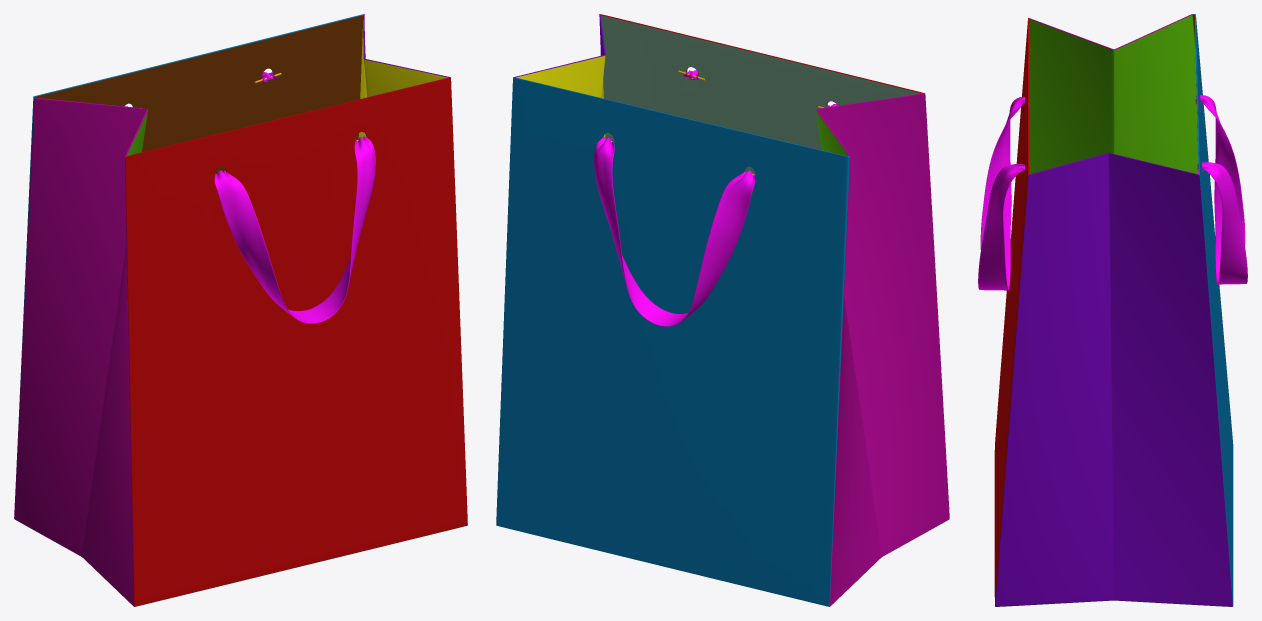
The model's file is gift_paper_bag.glb.
3 views of the same model, side by side, from view 1: azimuth 30°, elevation 25°; view 2: azimuth 150°, elevation 25°; view 3: azimuth 270°, elevation 25° (orthographic).
Visible parts, largest first — view 1: gift_paper_bag; view 2: gift_paper_bag; view 3: gift_paper_bag.
Part boxes in pixels (x1=…): gift_paper_bag: x1=14, y1=14, x2=467, y2=606; gift_paper_bag: x1=496, y1=14, x2=949, y2=606; gift_paper_bag: x1=978, y1=14, x2=1247, y2=606.
Bounding box in the file's own units: 0.1917 × 0.2396 × 0.1355.
